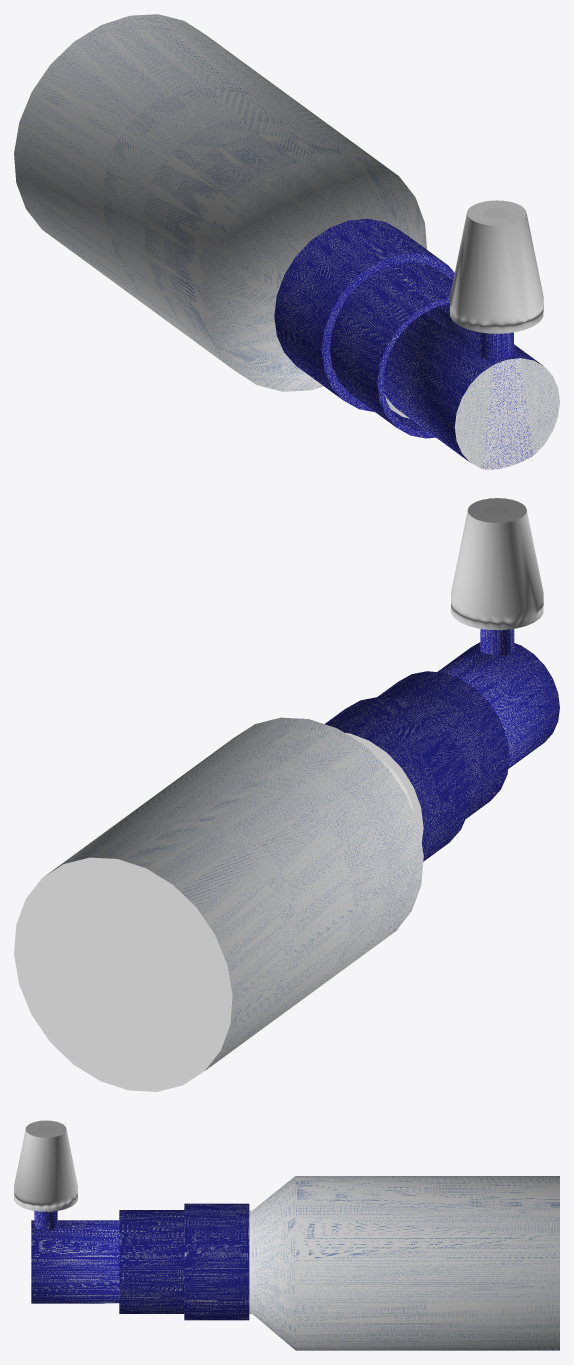
The model's file is model_scale.obj.
3 renders of one model, top to bottom at view 1: azimuth 30°, elevation 25°; view 2: azimuth 150°, elevation 25°; view 3: azimuth 270°, elevation 25°, orthographic. The views are drawn at different scales.
Visible parts, largest first — view 1: mesh21_mesh21-geometry, mesh1_mesh1-geometry, mesh9_mesh9-geometry, mesh20_mesh20-geometry, mesh8_mesh8-geometry; view 2: mesh21_mesh21-geometry, mesh1_mesh1-geometry, mesh25_mesh25-geometry, mesh20_mesh20-geometry, mesh9_mesh9-geometry, mesh8_mesh8-geometry; view 3: mesh21_mesh21-geometry, mesh1_mesh1-geometry, mesh9_mesh9-geometry, mesh20_mesh20-geometry, mesh8_mesh8-geometry.
Boxes of the visible parts, x1=… form: mesh21_mesh21-geometry: x1=14, y1=14, x2=426, y2=391; mesh1_mesh1-geometry: x1=274, y1=218, x2=454, y2=438; mesh9_mesh9-geometry: x1=383, y1=304, x2=559, y2=469; mesh20_mesh20-geometry: x1=450, y1=200, x2=543, y2=333; mesh8_mesh8-geometry: x1=479, y1=207, x2=513, y2=360; mesh21_mesh21-geometry: x1=14, y1=717, x2=423, y2=1091; mesh1_mesh1-geometry: x1=324, y1=671, x2=509, y2=861; mesh25_mesh25-geometry: x1=60, y1=905, x2=189, y2=1043; mesh20_mesh20-geometry: x1=451, y1=498, x2=543, y2=630; mesh9_mesh9-geometry: x1=437, y1=642, x2=559, y2=768; mesh8_mesh8-geometry: x1=480, y1=505, x2=514, y2=656; mesh21_mesh21-geometry: x1=249, y1=1176, x2=559, y2=1350; mesh1_mesh1-geometry: x1=119, y1=1203, x2=249, y2=1320; mesh9_mesh9-geometry: x1=31, y1=1220, x2=119, y2=1303; mesh20_mesh20-geometry: x1=14, y1=1120, x2=77, y2=1211; mesh8_mesh8-geometry: x1=34, y1=1125, x2=57, y2=1230.
Bounding box in the file's own units: 0.0579 × 0.0778 × 0.1813.
